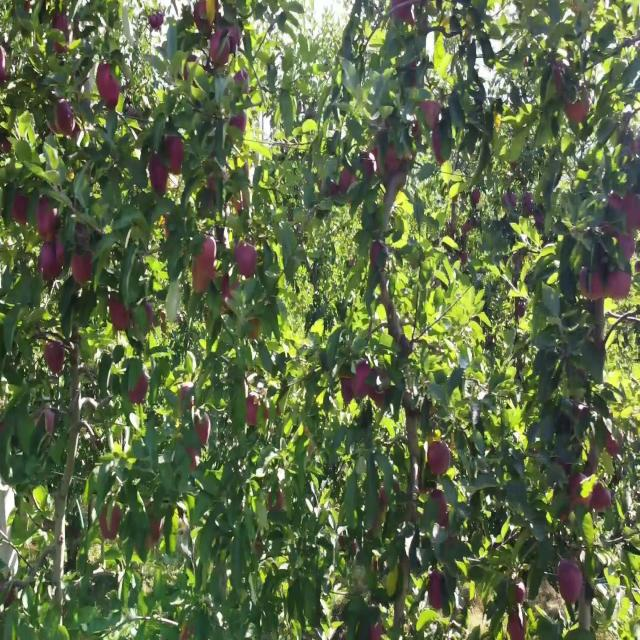apple: (600, 191, 640, 267), (600, 215, 636, 267), (608, 241, 636, 302), (40, 234, 67, 284), (96, 63, 122, 110), (36, 199, 61, 242), (560, 561, 584, 604), (508, 590, 528, 638), (580, 270, 607, 304), (164, 135, 185, 178), (196, 0, 222, 34), (100, 504, 123, 542), (428, 440, 452, 476), (108, 298, 132, 334), (52, 14, 72, 57), (192, 255, 215, 292), (236, 241, 258, 279), (72, 248, 94, 286), (148, 156, 168, 196), (44, 341, 66, 377), (212, 28, 231, 69), (608, 270, 632, 302), (372, 369, 391, 409), (192, 263, 215, 295), (572, 476, 592, 512), (432, 490, 450, 530), (196, 234, 216, 270), (428, 568, 444, 612), (588, 270, 608, 304), (12, 191, 30, 228), (420, 99, 441, 130), (624, 191, 640, 231), (568, 99, 591, 126), (592, 483, 612, 514), (356, 362, 373, 398), (56, 99, 74, 133), (192, 419, 212, 448), (508, 611, 528, 639), (132, 376, 149, 405), (340, 376, 357, 405), (180, 383, 197, 412), (36, 412, 56, 436), (388, 149, 407, 174), (148, 519, 164, 548), (392, 7, 415, 27), (552, 63, 566, 94), (608, 433, 624, 459), (340, 170, 357, 194), (232, 191, 249, 215), (512, 583, 528, 608), (432, 135, 445, 165), (364, 149, 377, 178), (184, 56, 197, 85), (268, 490, 284, 512), (232, 113, 248, 135), (372, 241, 384, 270), (248, 398, 260, 427), (388, 568, 400, 597), (224, 277, 239, 300), (148, 14, 165, 34), (228, 28, 241, 53), (188, 447, 199, 475), (248, 319, 262, 341), (160, 213, 171, 240), (68, 120, 81, 142), (236, 71, 249, 92), (144, 305, 155, 329), (372, 618, 384, 639), (0, 49, 7, 84), (372, 149, 381, 176), (208, 177, 218, 197), (184, 63, 193, 85), (328, 184, 340, 199), (464, 220, 476, 235), (472, 191, 481, 206), (4, 142, 12, 156)
